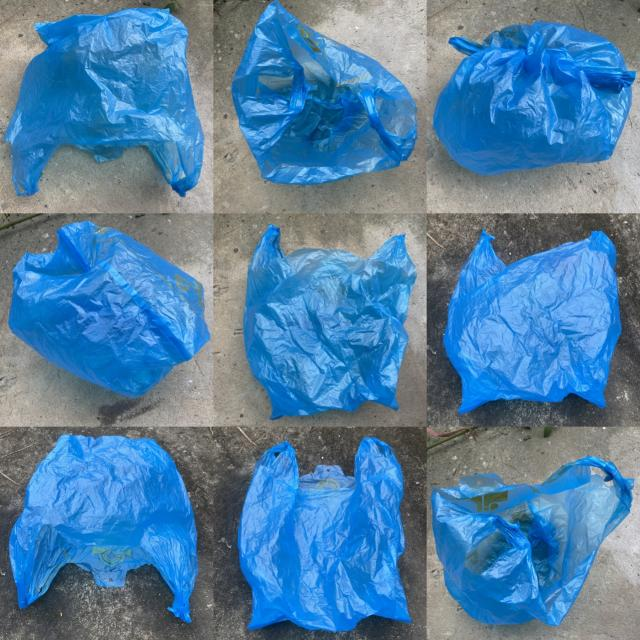Single-layer Plastic: (5, 9, 204, 196), (9, 221, 210, 397), (9, 435, 198, 622), (232, 1, 416, 184), (432, 458, 632, 625), (244, 225, 416, 418), (239, 438, 410, 631), (444, 230, 621, 414), (432, 21, 635, 175)
